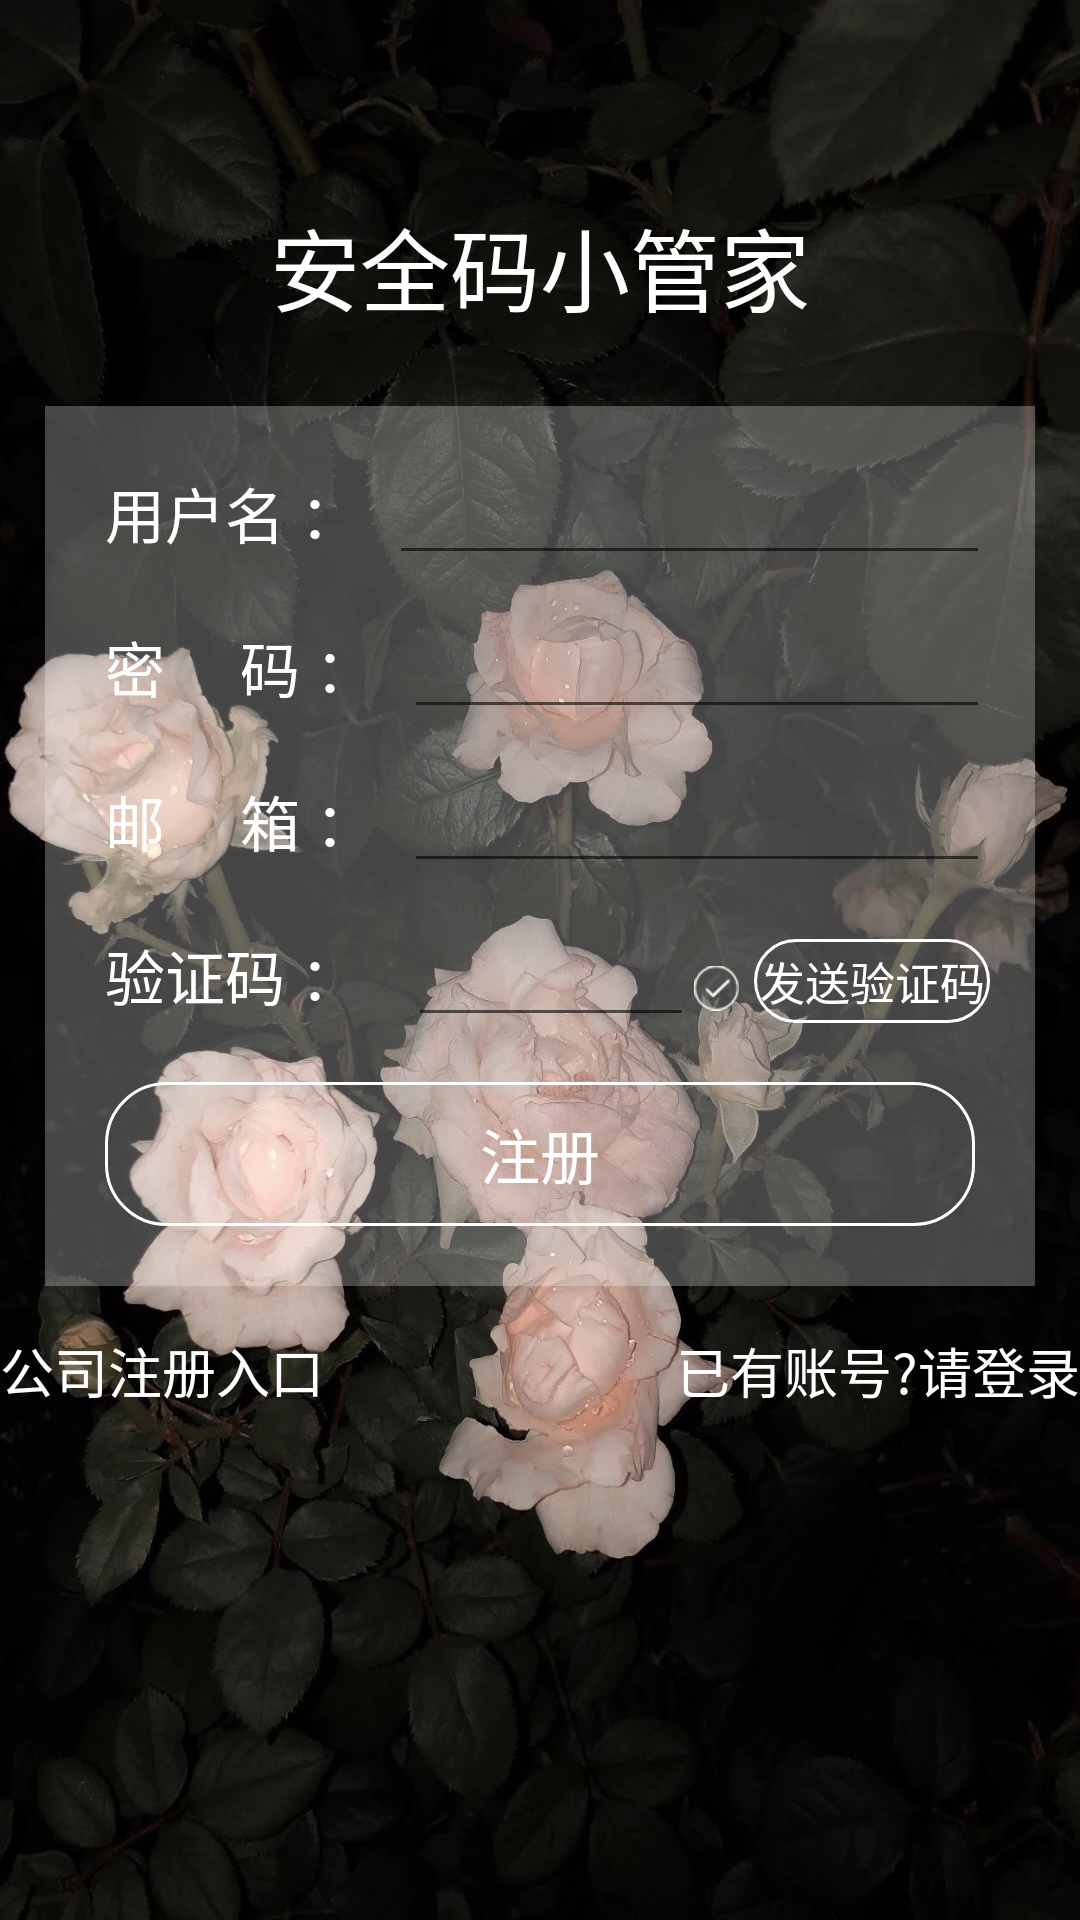

Icons on this 1080×1920 Android screen, each with the point to tap as point (x, y):
check success: point (724, 999)
